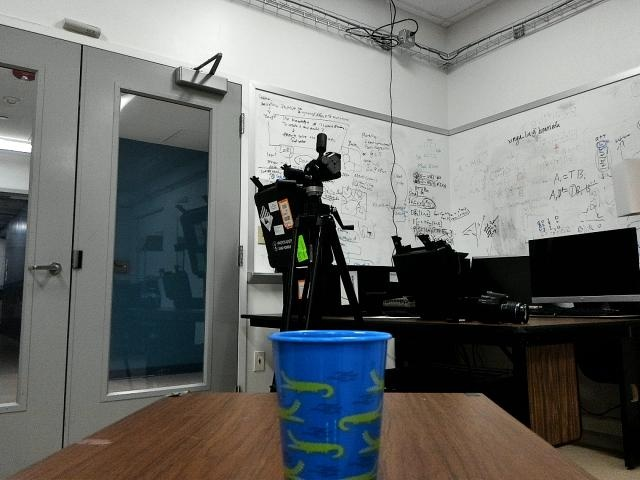water_cup: (265, 320, 394, 480)
